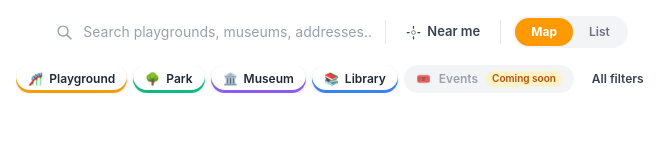
Test case: SearchField combobox keyboard navigation (#482) › place matches stay live while typing, without any address lookup
Type "first" into the dropdown with placeholder "Search playgrounds, museums, addresses…" at (228, 32), box [83, 22, 373, 42]
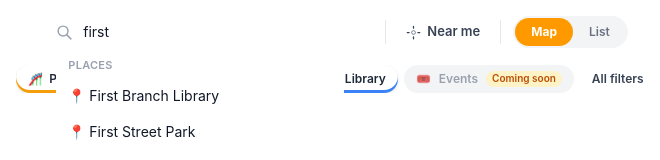
Expected: the option "📍 First Branch Library" is shown, [56, 78, 344, 114]
